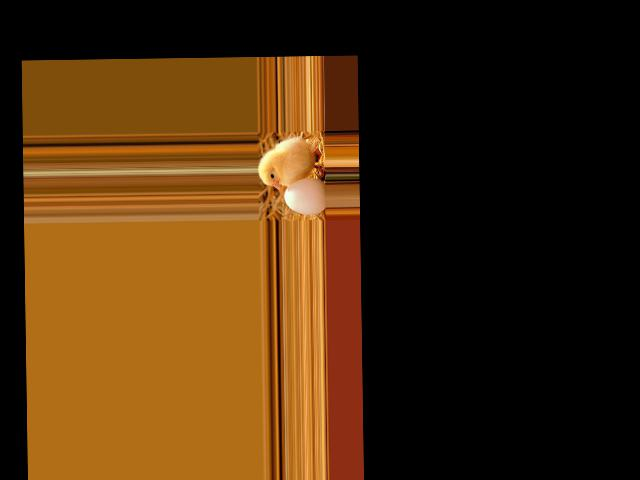egg: (284, 177, 326, 214)
